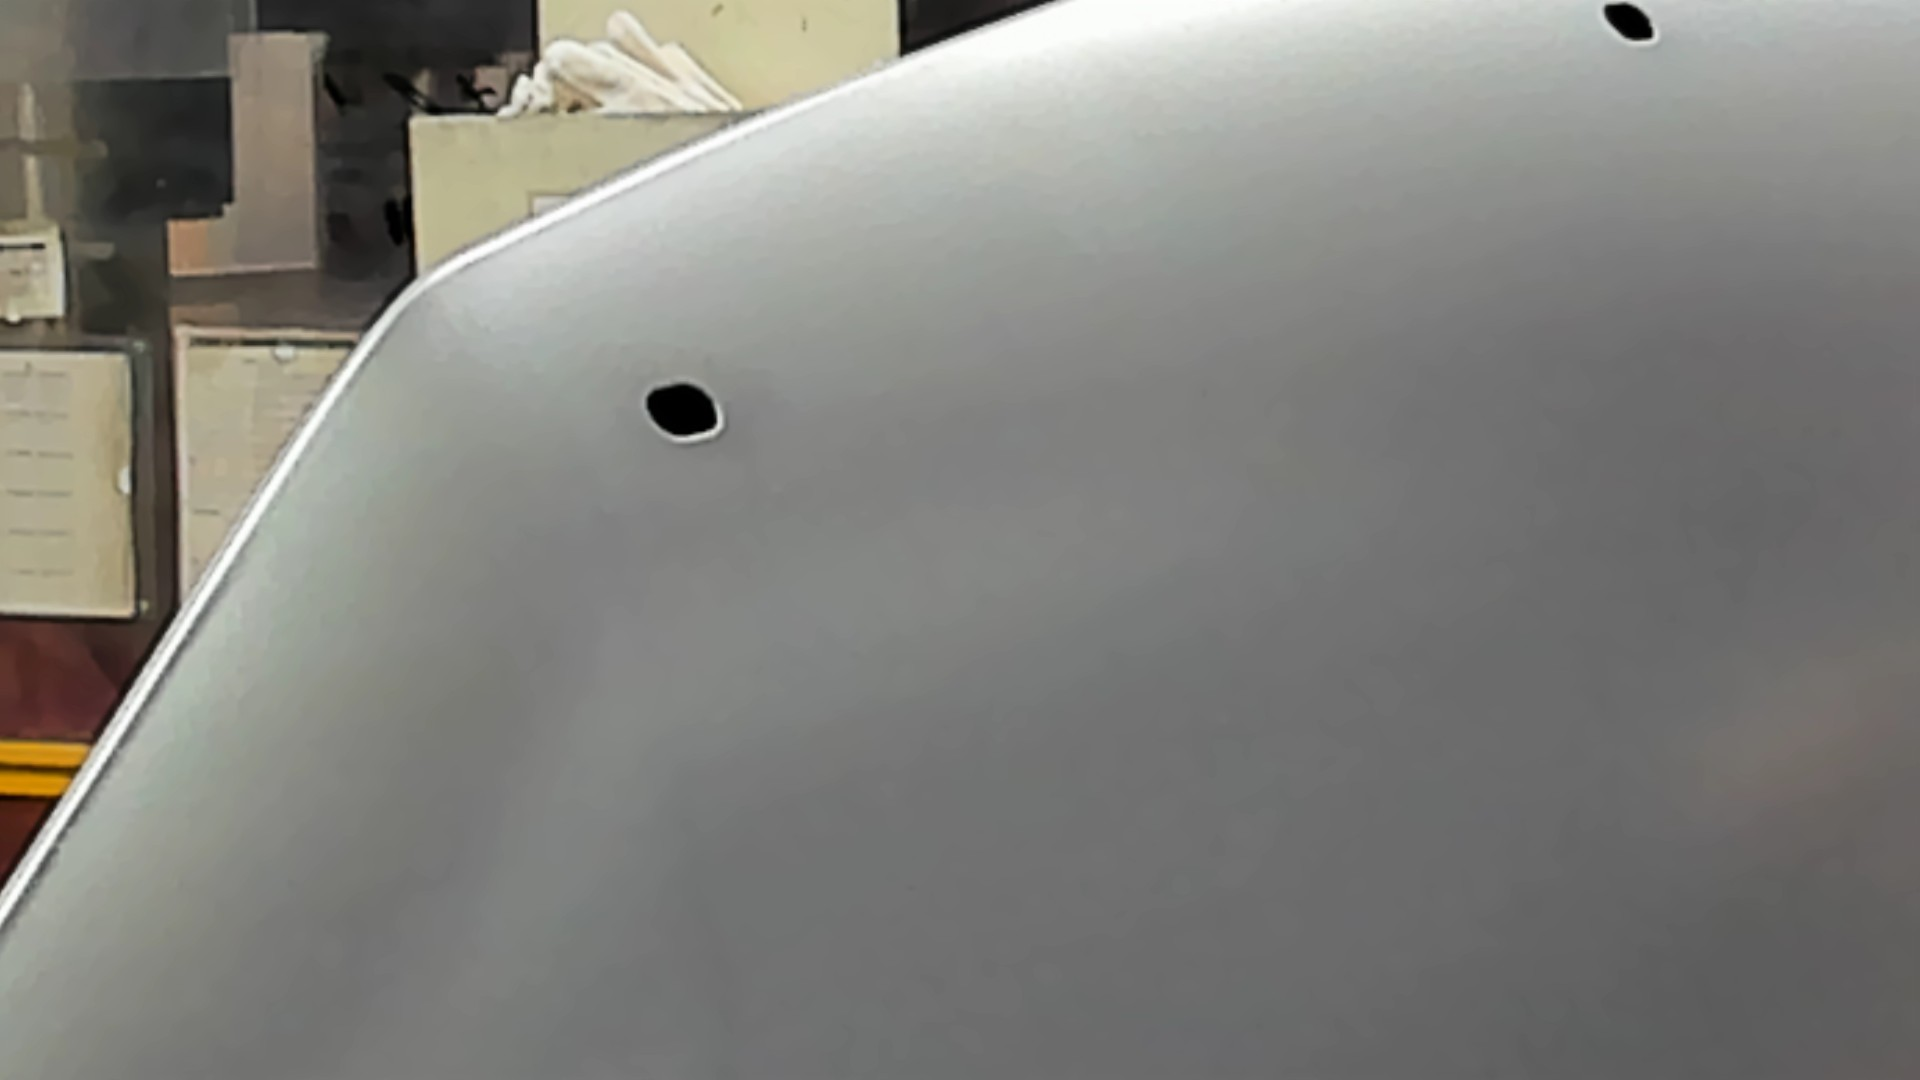amorfo: (636, 373, 738, 447), (1588, 1, 1668, 55)
